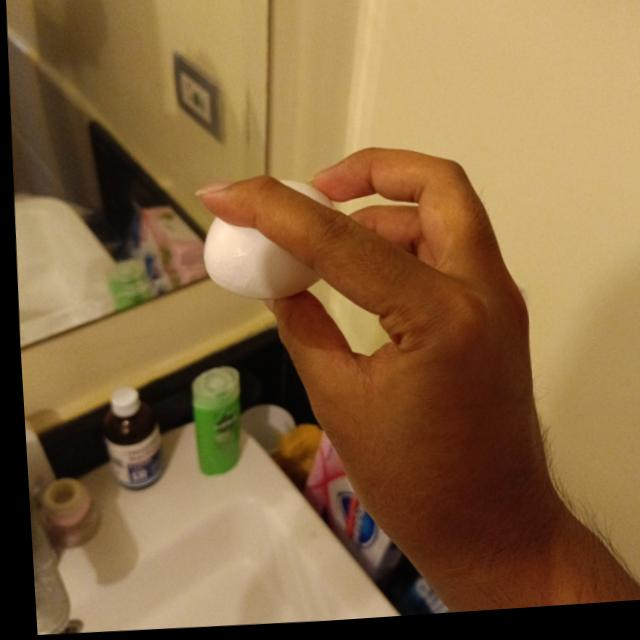egg: (195, 182, 329, 304)
